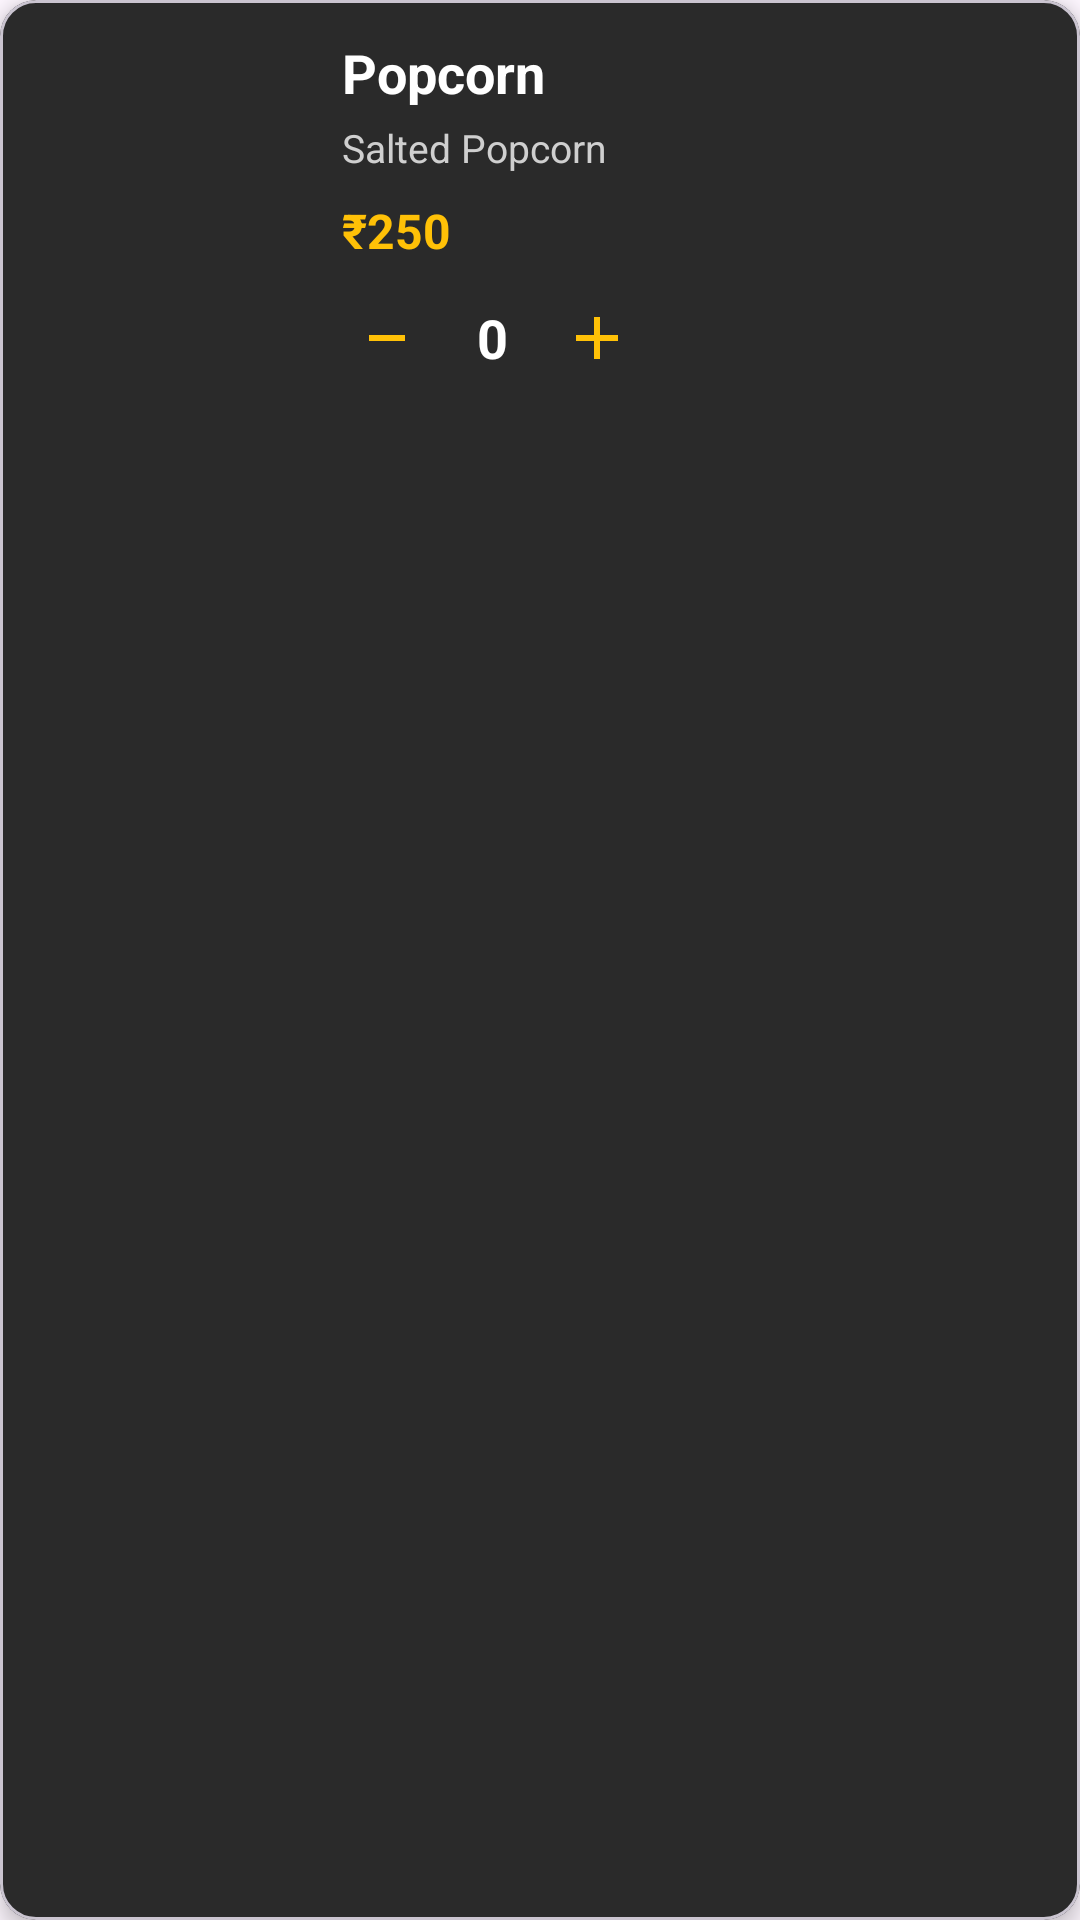

Icons on this 1080px x 1920px Android screen, each with the point to tap as (x=x, y=y):
add: (x=597, y=338)
